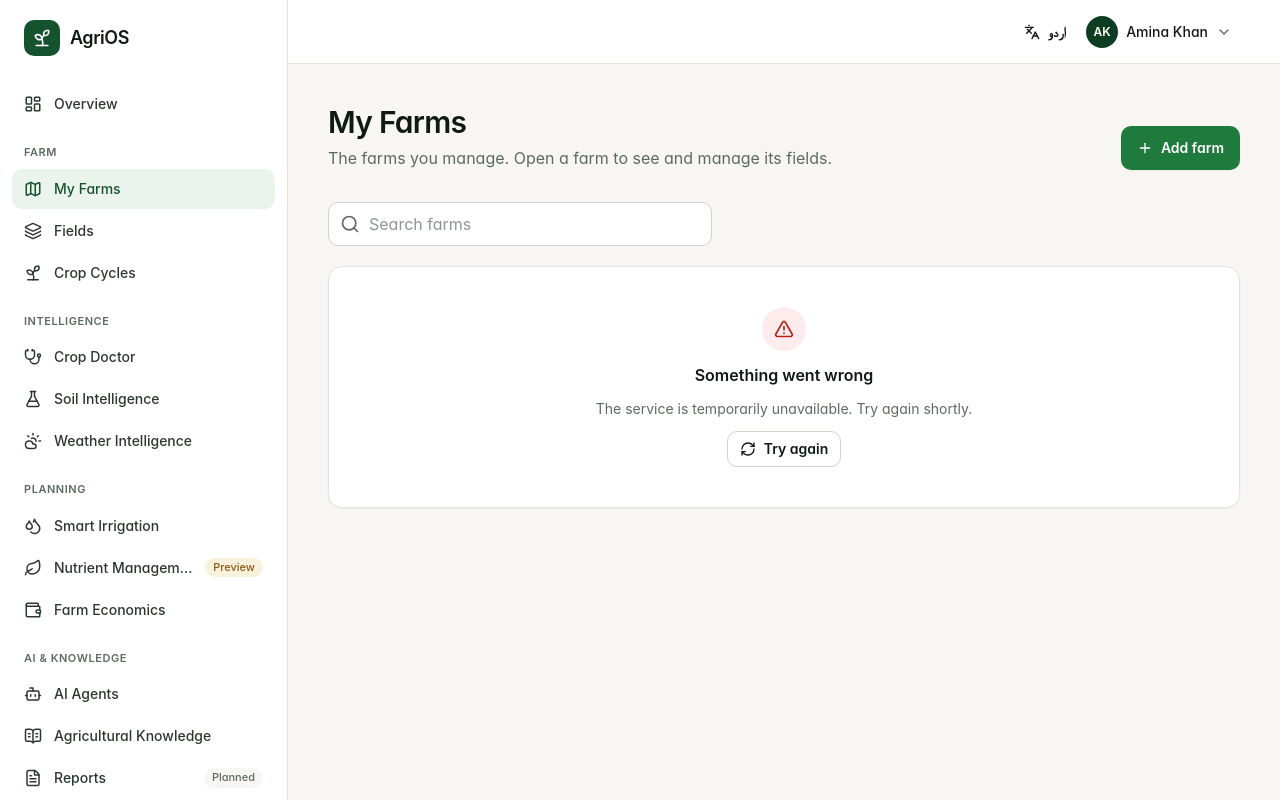
Test: My Farms › shows an error state with a working retry
expect the text "The service is temporarily unavailable. Try again shortly." is shown: met, box x1=596 y1=399 x2=972 y2=419
Click the button "Try again" at (784, 449), box x1=727 y1=431 x2=841 y2=467
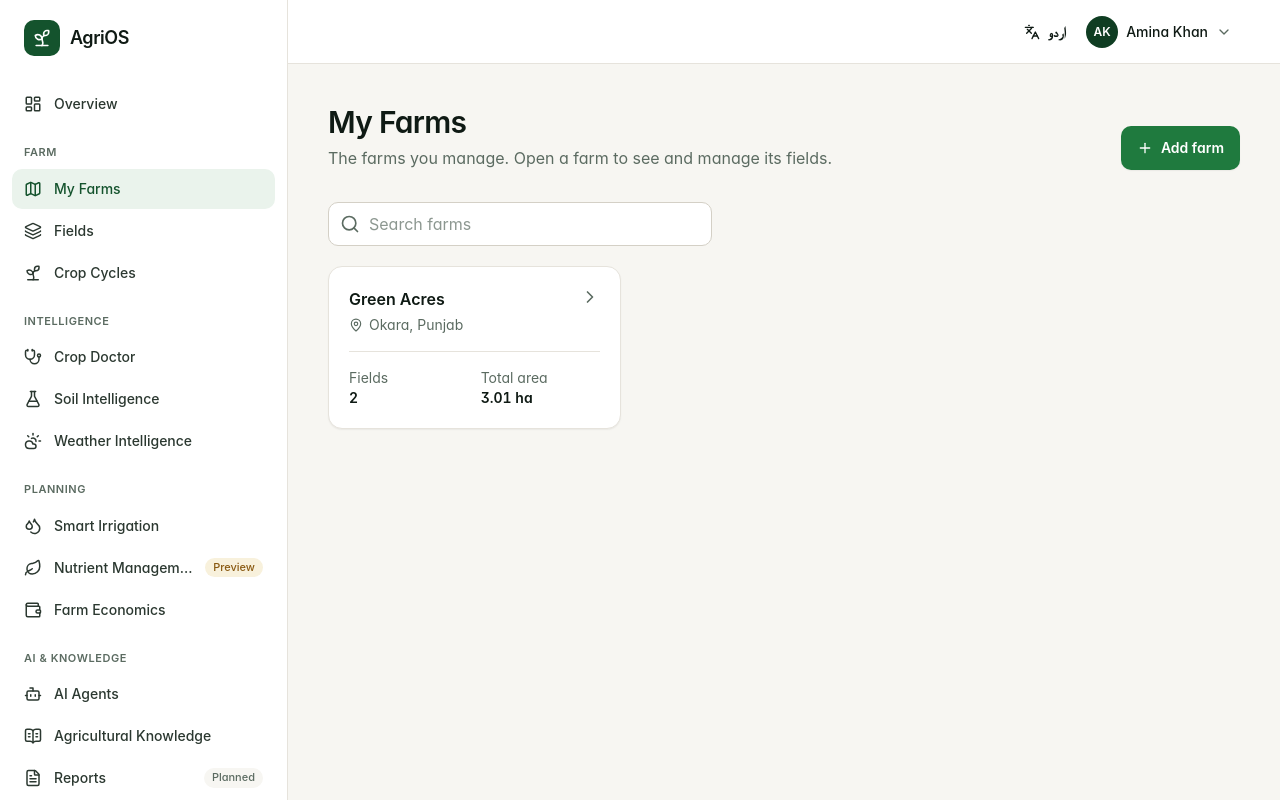
expect the heading "Green Acres" is shown: met, box x1=349 y1=289 x2=445 y2=309
